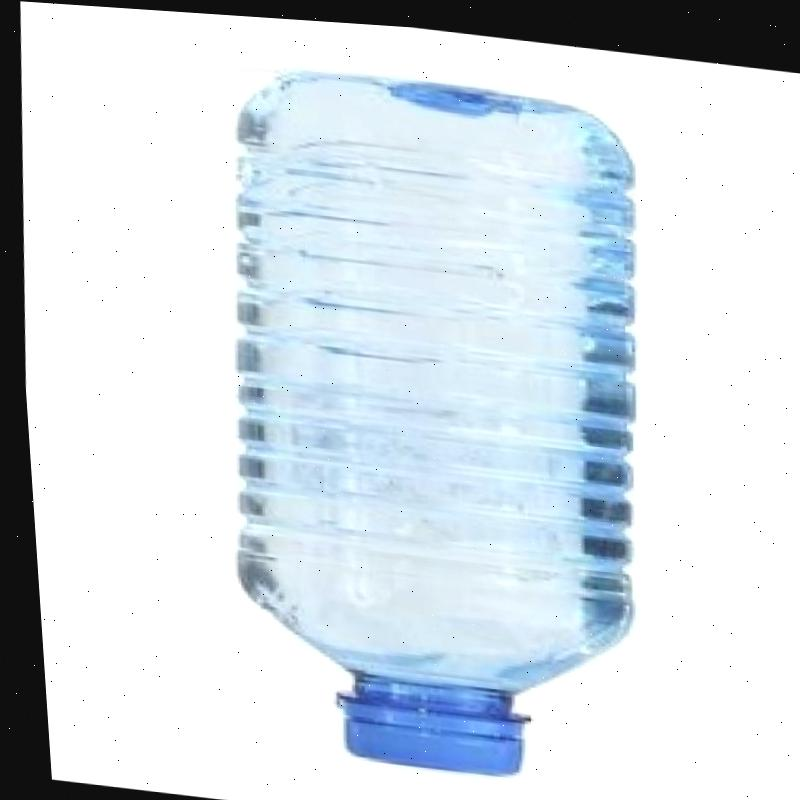botella: (186, 52, 671, 790)
